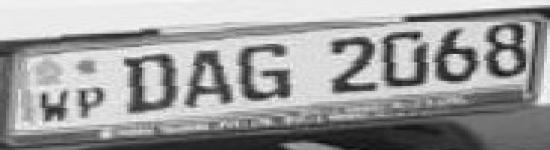0: (383, 27, 431, 88)
2: (326, 33, 382, 93)
6: (432, 23, 480, 86)
8: (483, 19, 530, 81)
A: (183, 47, 236, 110)
D: (123, 49, 180, 114)
G: (236, 41, 295, 103)
P: (76, 85, 111, 120)
W: (34, 87, 72, 124)
